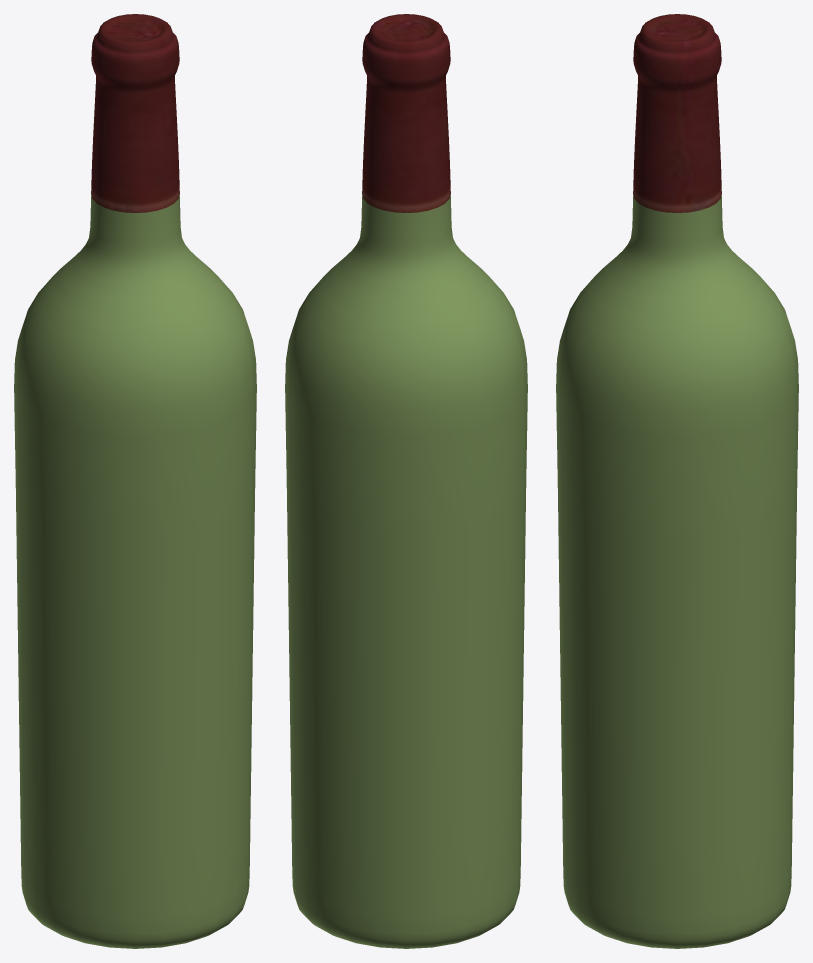
The model's file is wine_bottles_01.glb.
3 views of the same model, side by side, from view 1: azimuth 30°, elevation 25°; view 2: azimuth 150°, elevation 25°; view 3: azimuth 270°, elevation 25° (orthographic).
Visible parts, largest first — view 1: wine_bottles_01_bordeaux; view 2: wine_bottles_01_bordeaux; view 3: wine_bottles_01_bordeaux.
Part boxes in pixels (x1=…): wine_bottles_01_bordeaux: x1=14, y1=14, x2=256, y2=948; wine_bottles_01_bordeaux: x1=285, y1=14, x2=527, y2=948; wine_bottles_01_bordeaux: x1=556, y1=14, x2=798, y2=948.
Size of the model in its own units: 0.0745 by 0.298 by 0.0745.
Materials: 3 (1 with a texture image).
